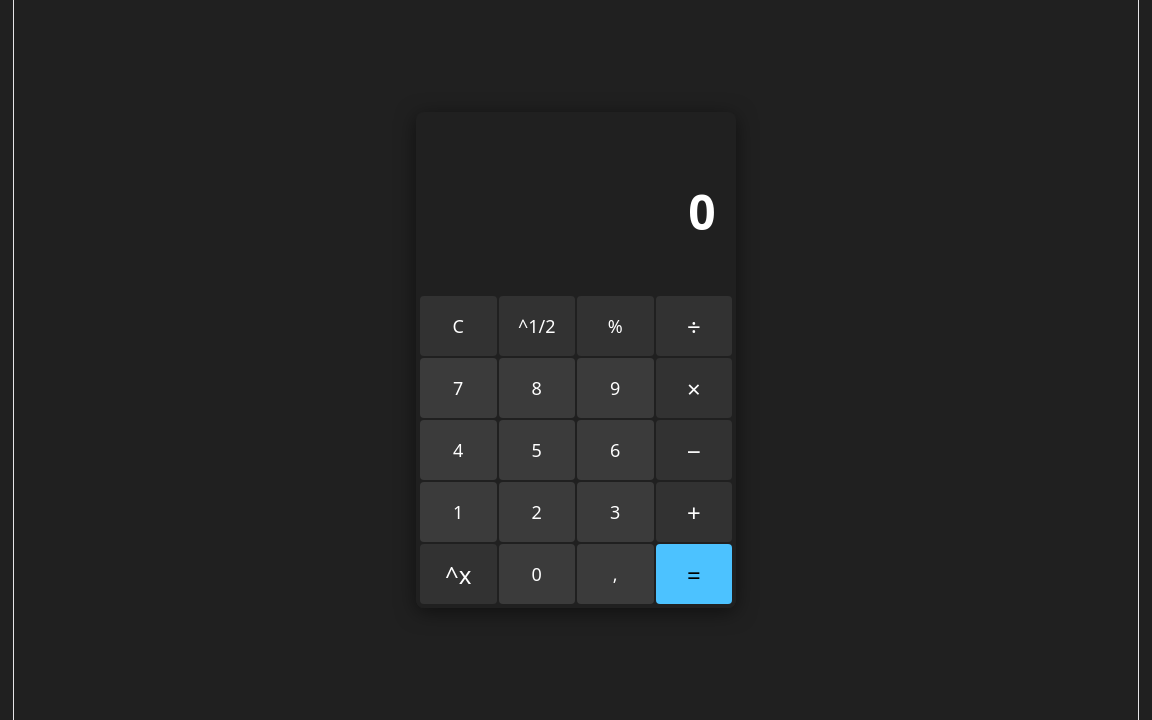
it: App › shows the previous value and operation symbol after pressing an operator
The width and height of the screenshot is (1152, 720).
Click the button "7".
click(458, 388)  # box [420, 358, 496, 418]
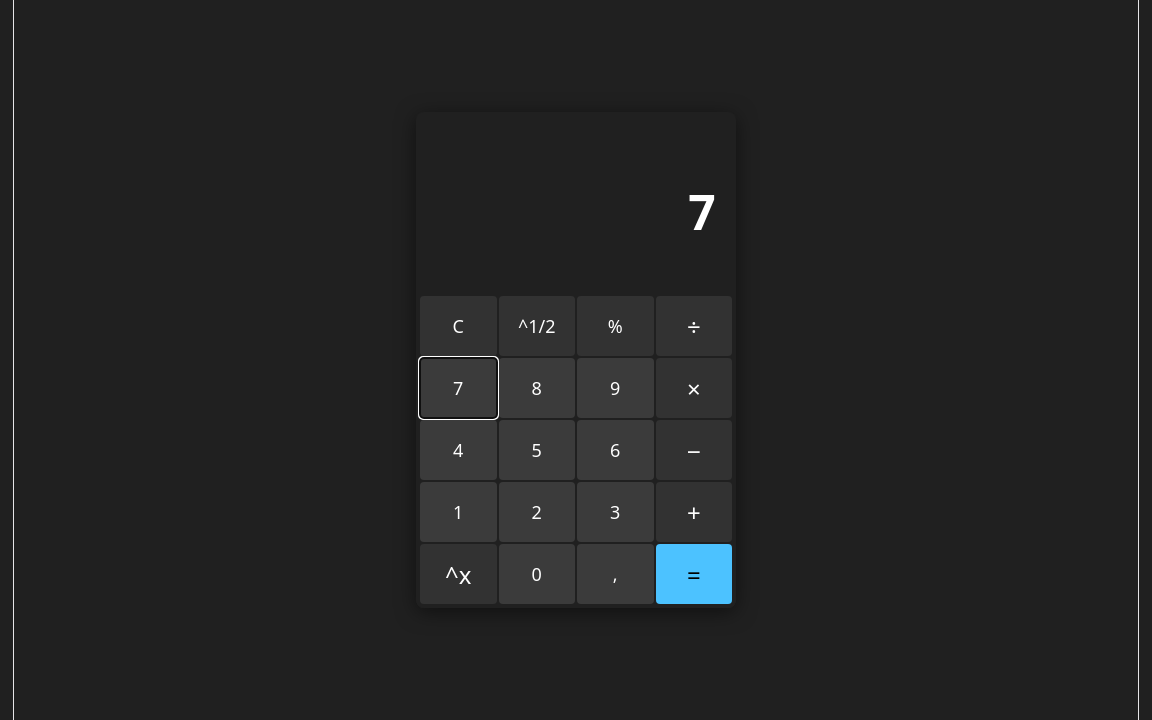
Click the button "+".
click(694, 512)  # box [656, 482, 732, 542]
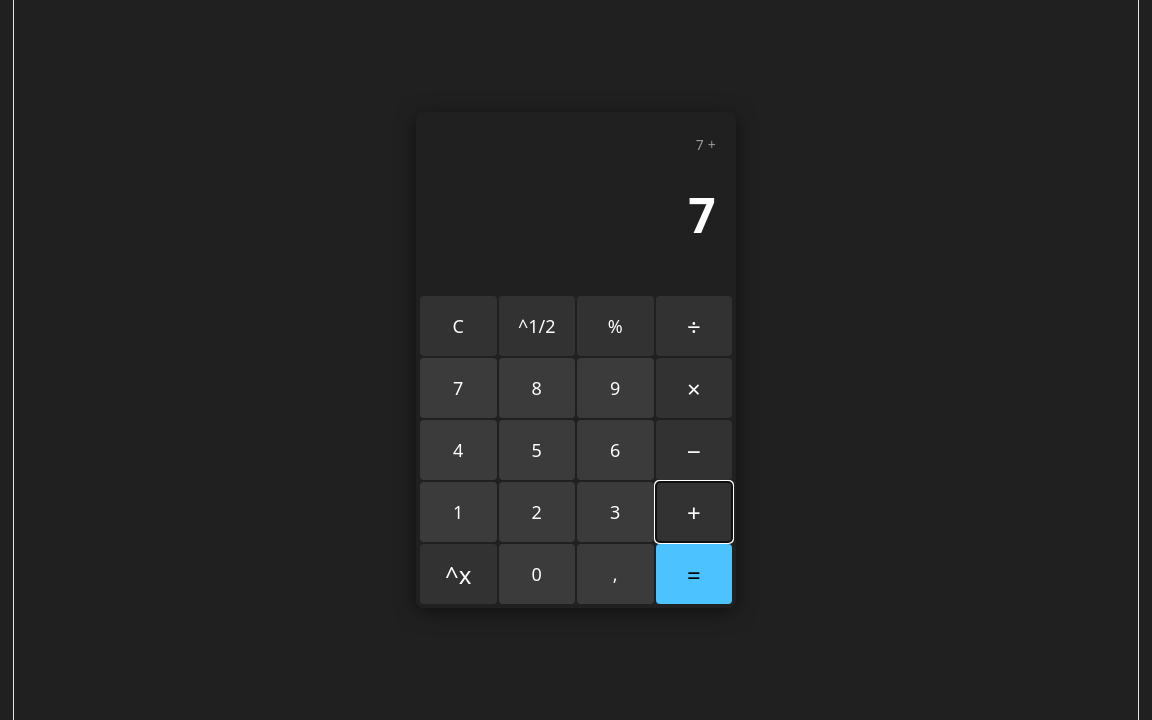
Result: the text with class "history" shows "7" at [696, 135, 704, 154]
Result: the text with class "history" shows "+" at [708, 135, 716, 154]
